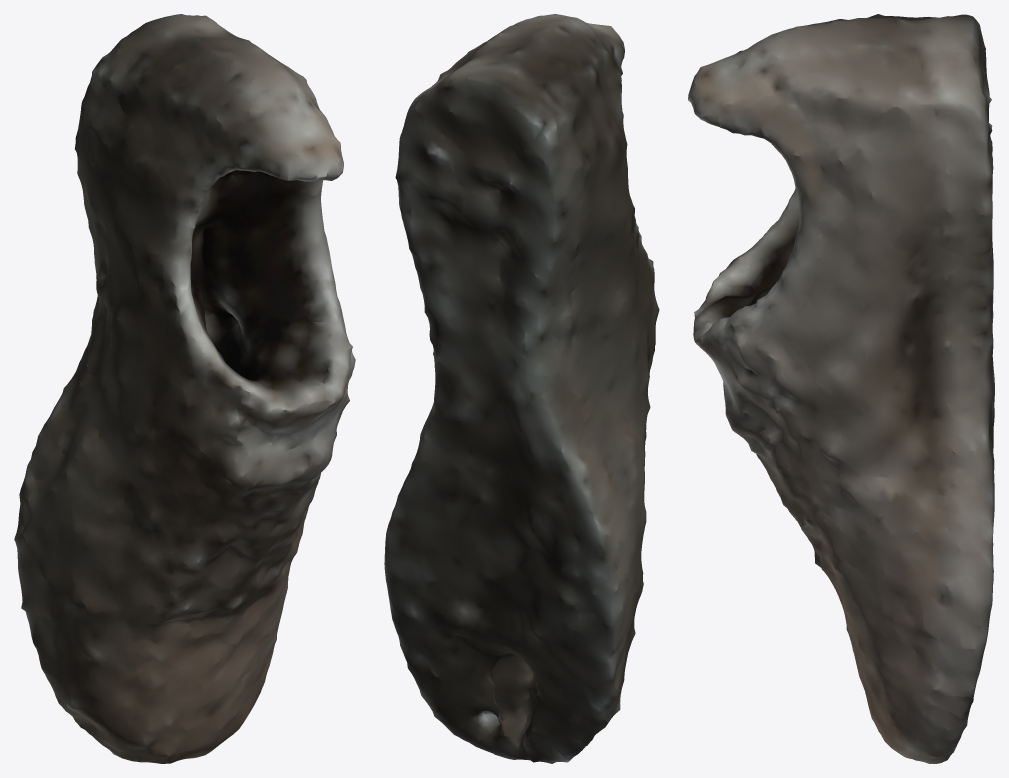
File: shoe3.glb
3 views of the same model, side by side, from view 1: azimuth 30°, elevation 25°; view 2: azimuth 150°, elevation 25°; view 3: azimuth 270°, elevation 25° (orthographic). The views are drawn at different scales.
Bounding box in the file's own units: 0.353 × 0.9934 × 0.375.
